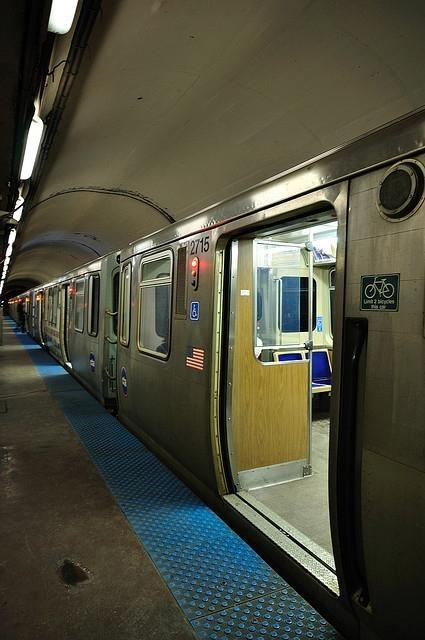bicycle: (365, 272, 395, 298)
